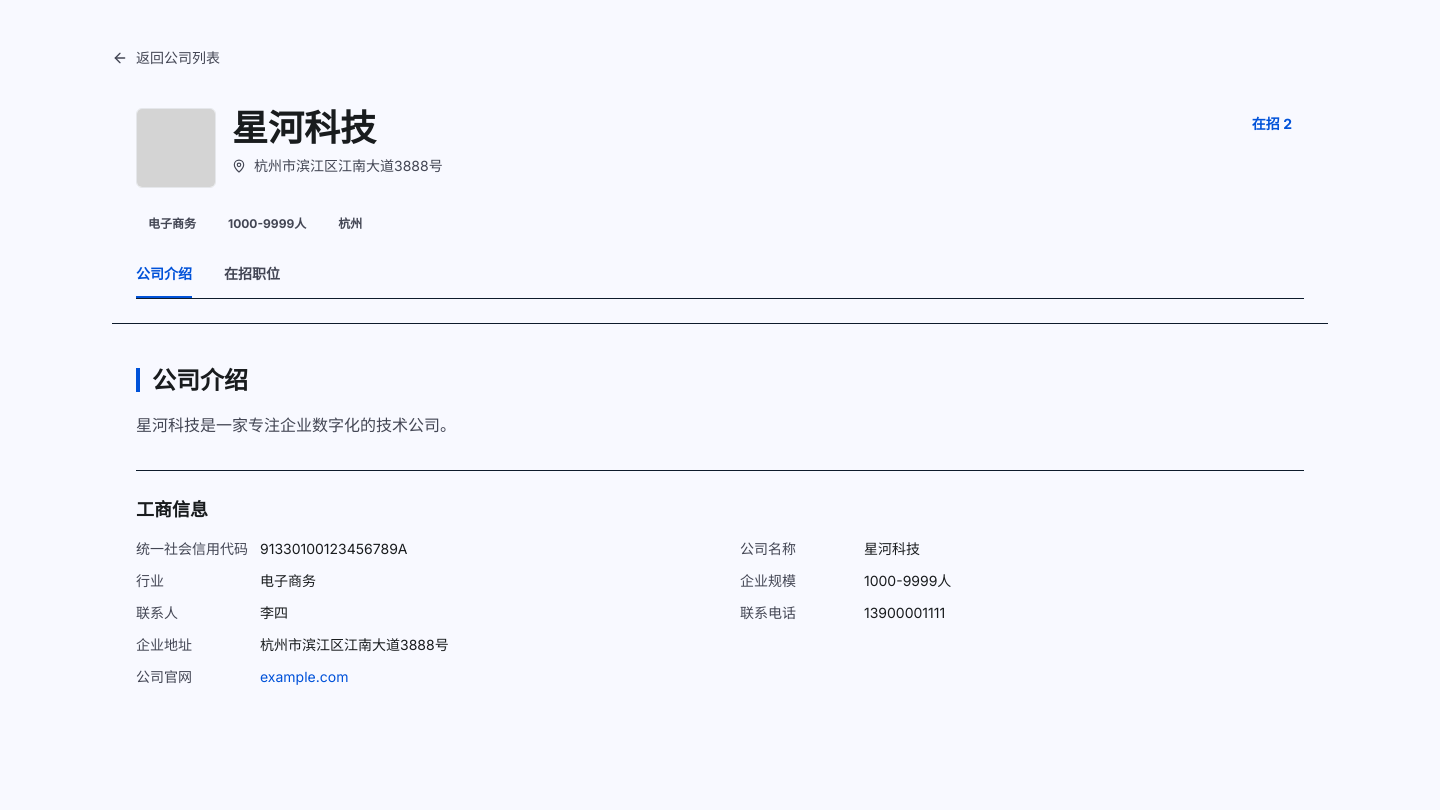
Test: user company detail page real api integration › shows intro tab by default and switches to jobs tab after clicking
Expected: the heading "星河科技" is shown, [232,103,376,152]
Expected: the text "星河科技是一家专注企业数字化的技术公司。" is shown, [136,415,456,435]
Click the tab "在招职位".
click(252, 281)  # box [224,264,280,298]
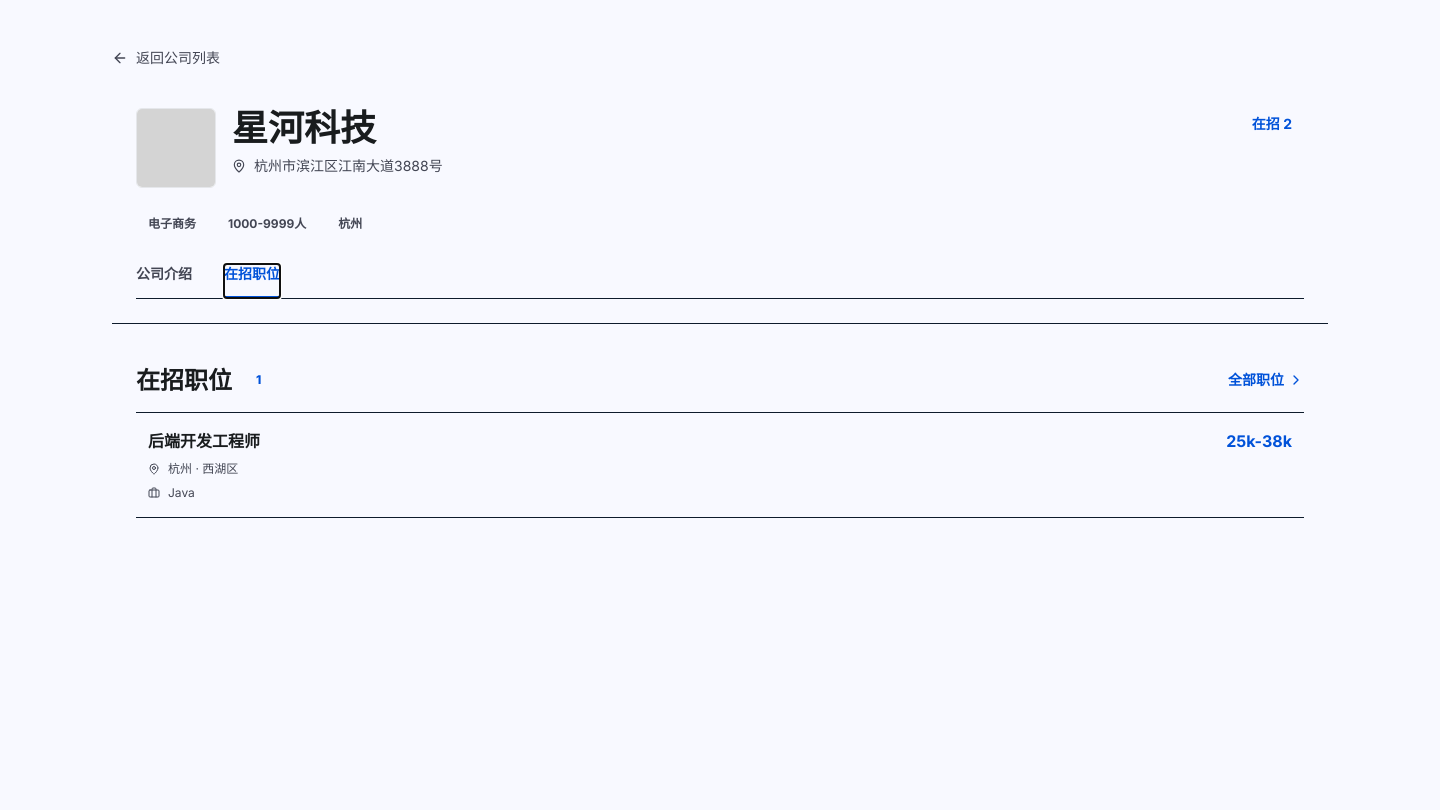
Expected: the heading "后端开发工程师" is shown, [148,429,276,453]
Expected: the text "25k-38k" is shown, [1226,429,1292,453]
